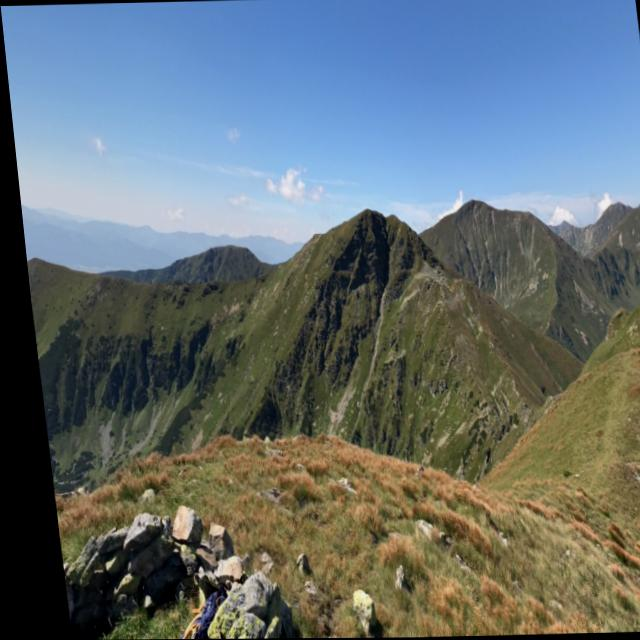Bystra: (436, 147, 512, 254)
Velka Kamenista: (270, 110, 473, 309)
